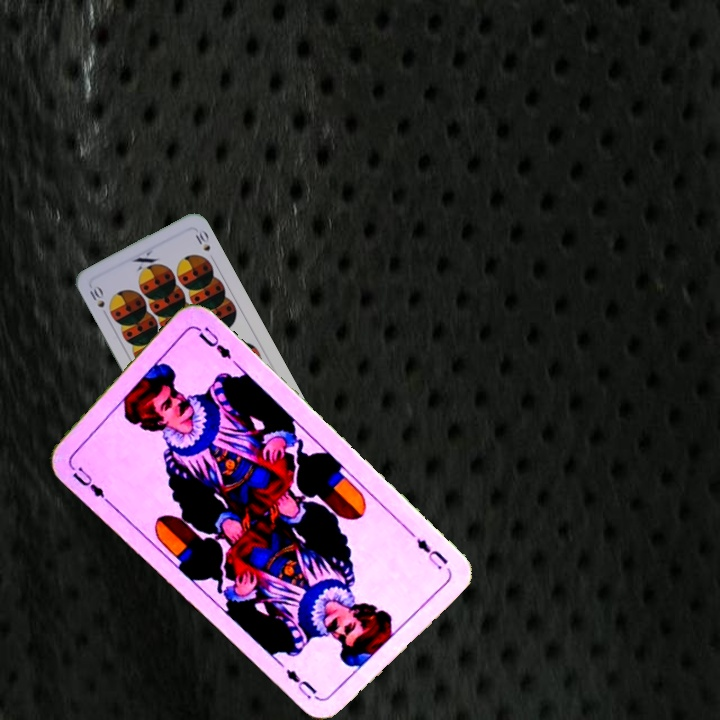EU: (65, 460, 112, 506), (412, 534, 451, 572)
S10: (85, 282, 110, 319)
